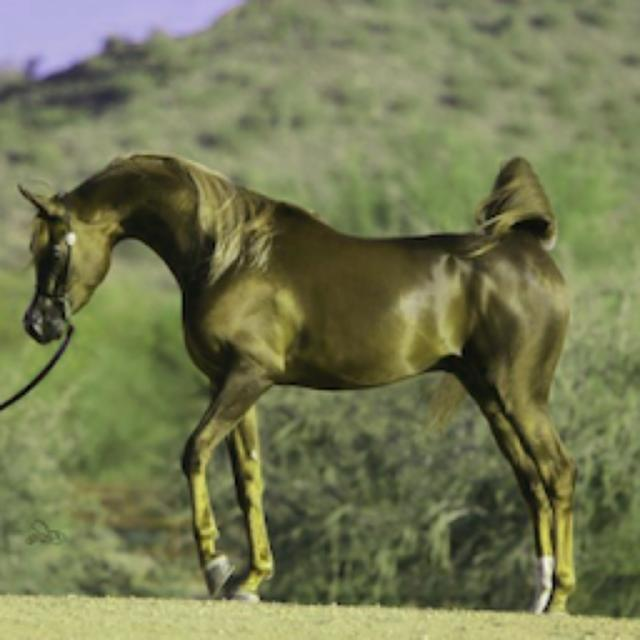Horse: (12, 142, 590, 618)
